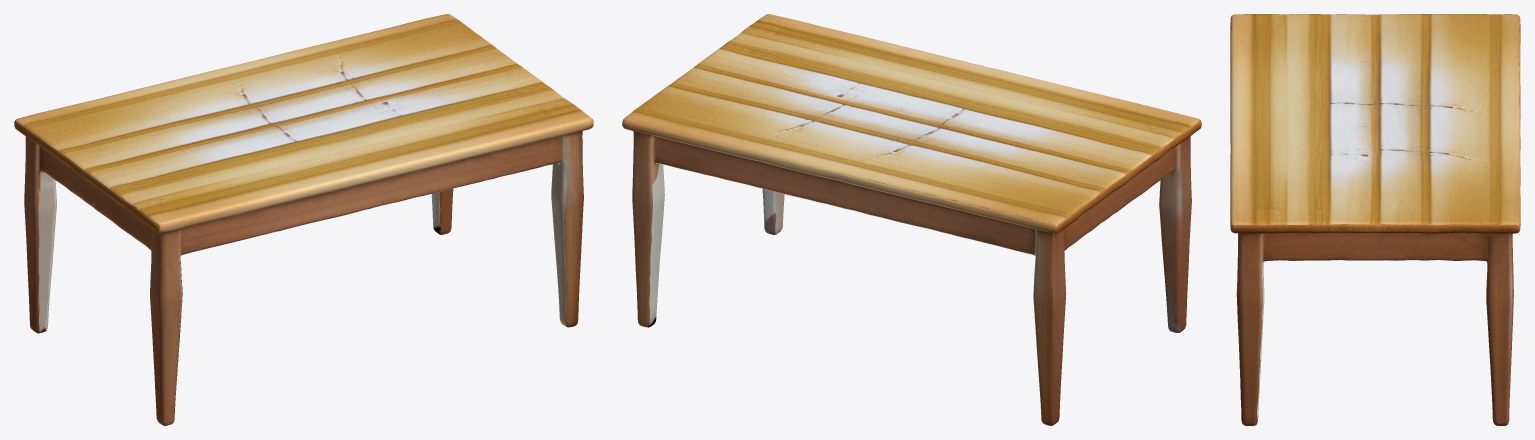
File: table1.glb
3 renders of one model, left to right at view 1: azimuth 30°, elevation 25°; view 2: azimuth 150°, elevation 25°; view 3: azimuth 270°, elevation 25°, orthographic.
Visible parts, largest first — view 1: tmpfm5qukx_.ply; view 2: tmpfm5qukx_.ply; view 3: tmpfm5qukx_.ply.
Part boxes in pixels (<box>): tmpfm5qukx_.ply: <box>14,14,593,425</box>; tmpfm5qukx_.ply: <box>622,14,1201,425</box>; tmpfm5qukx_.ply: <box>1230,14,1520,425</box>.
Size of the model in its own units: 2 by 0.9216 by 1.16.
1 material, 1 textured.
